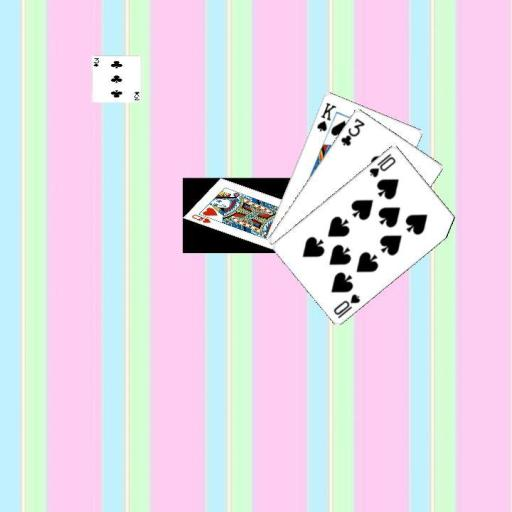10S: (366, 150, 398, 179), (330, 290, 362, 319)
3C: (337, 115, 366, 147)
KS: (314, 99, 338, 133)
